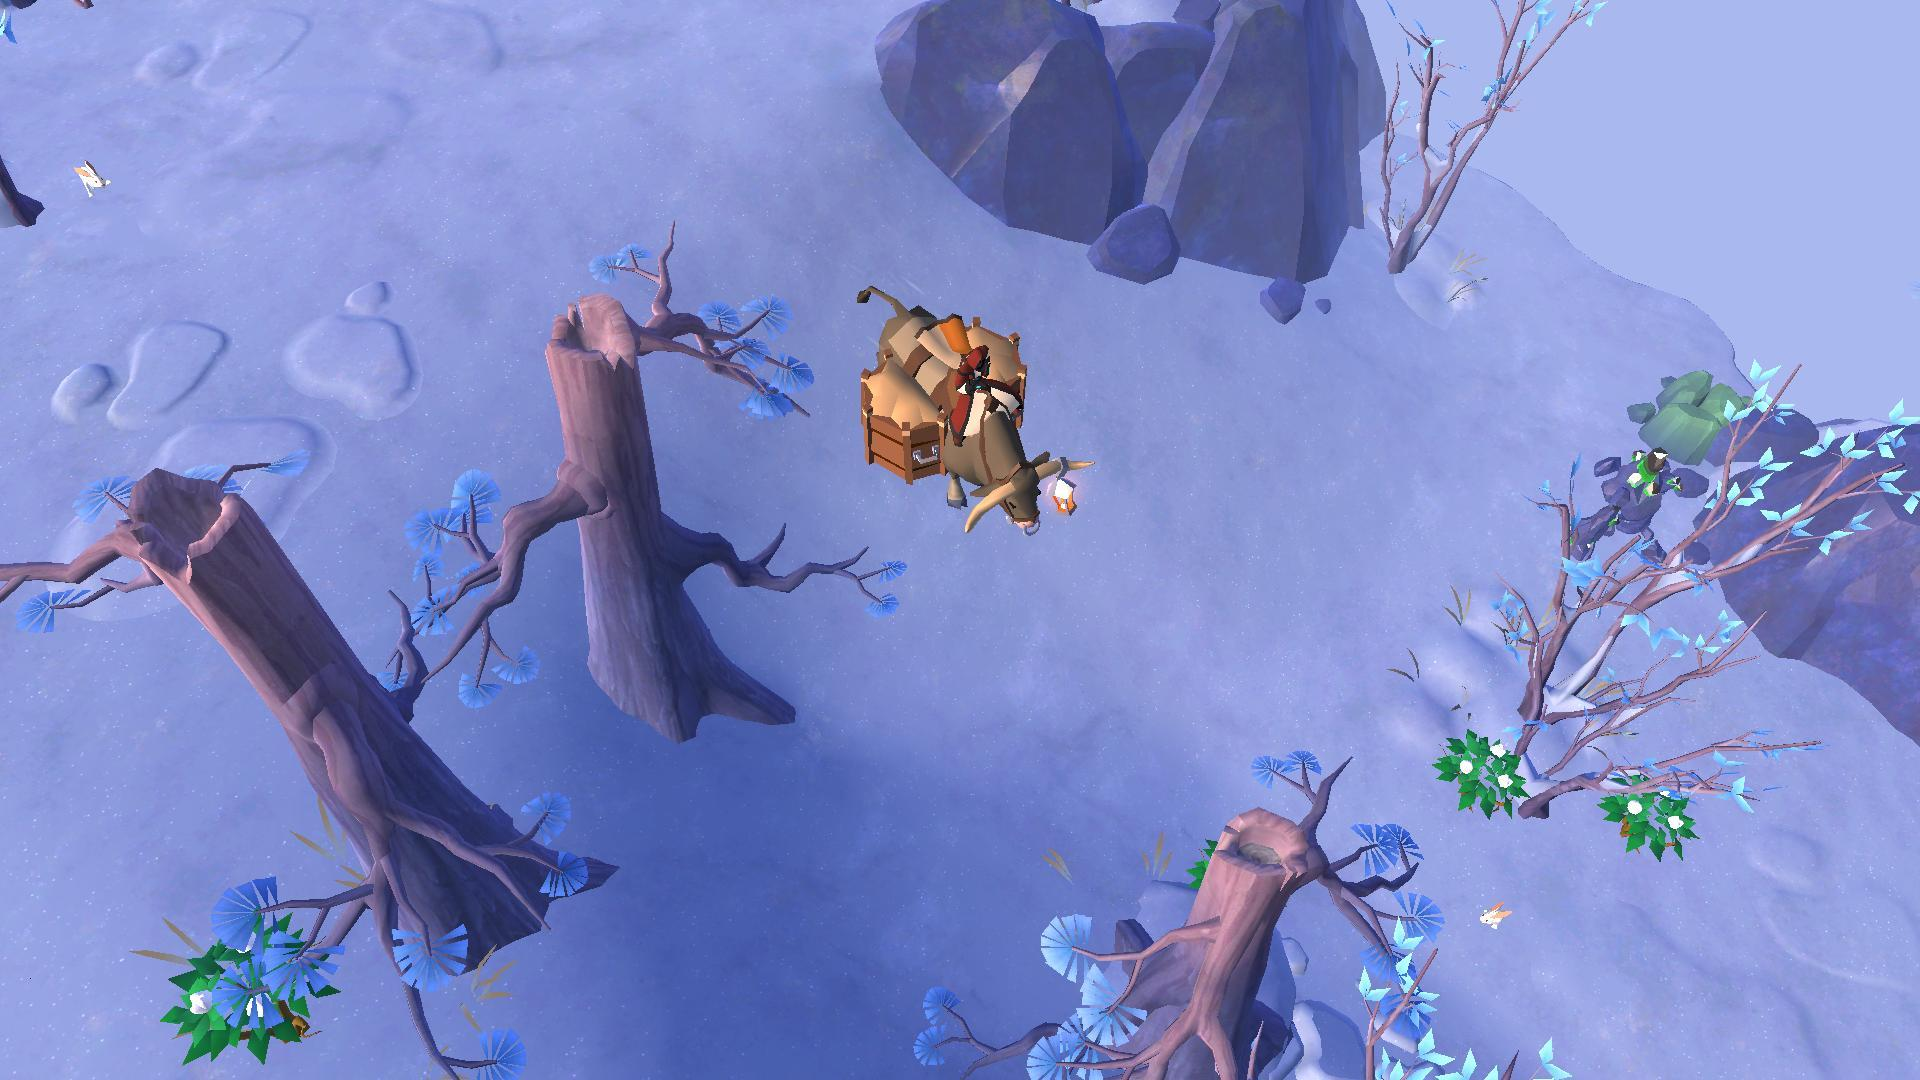fiber_t3: (165, 928, 324, 1060), (1428, 724, 1528, 816), (1596, 782, 1701, 860)
rock_t3: (1636, 360, 1751, 464)
